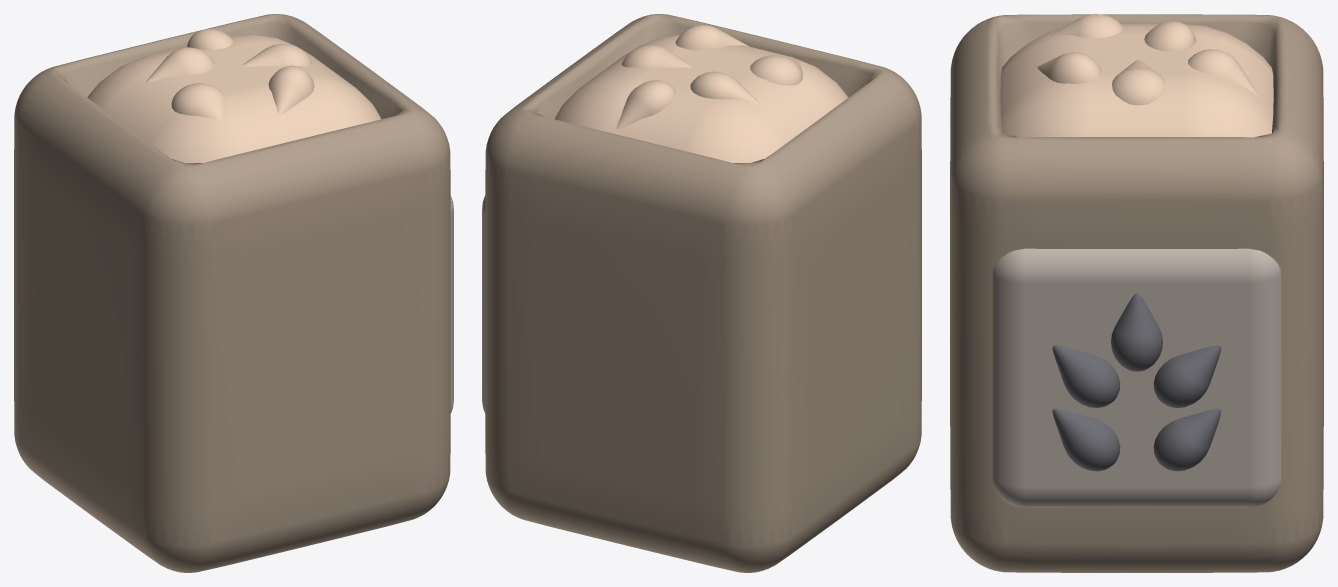
The model's file is grain.gltf.
The picture shows the model from 3 angles, left to right: view 1: azimuth 30°, elevation 25°; view 2: azimuth 150°, elevation 25°; view 3: azimuth 270°, elevation 25°; orthographic projection. The views are drawn at different scales.
Parts seen in each view (by area): view 1: Sack, Grains, Grain (×5), Boarder; view 2: Sack, Grains, Grain (×5), Boarder; view 3: Sack, Boarder, Grains, Logo (×5), Grain (×5).
Boxes of the visible parts, x1,y1,x2,y2 form: Sack: [14, 14, 450, 572]; Grains: [87, 34, 380, 162]; Grain (×5): [146, 29, 314, 120]; Boarder: [450, 195, 453, 413]; Sack: [485, 14, 921, 572]; Grains: [555, 35, 848, 162]; Grain (×5): [616, 25, 802, 129]; Boarder: [482, 195, 485, 413]; Sack: [950, 14, 1323, 572]; Boarder: [992, 248, 1281, 507]; Grains: [1000, 24, 1273, 137]; Logo (×5): [1052, 293, 1221, 471]; Grain (×5): [1037, 14, 1259, 105].
Bounding box in the file's own units: 0.5573 × 0.7007 × 0.5.
